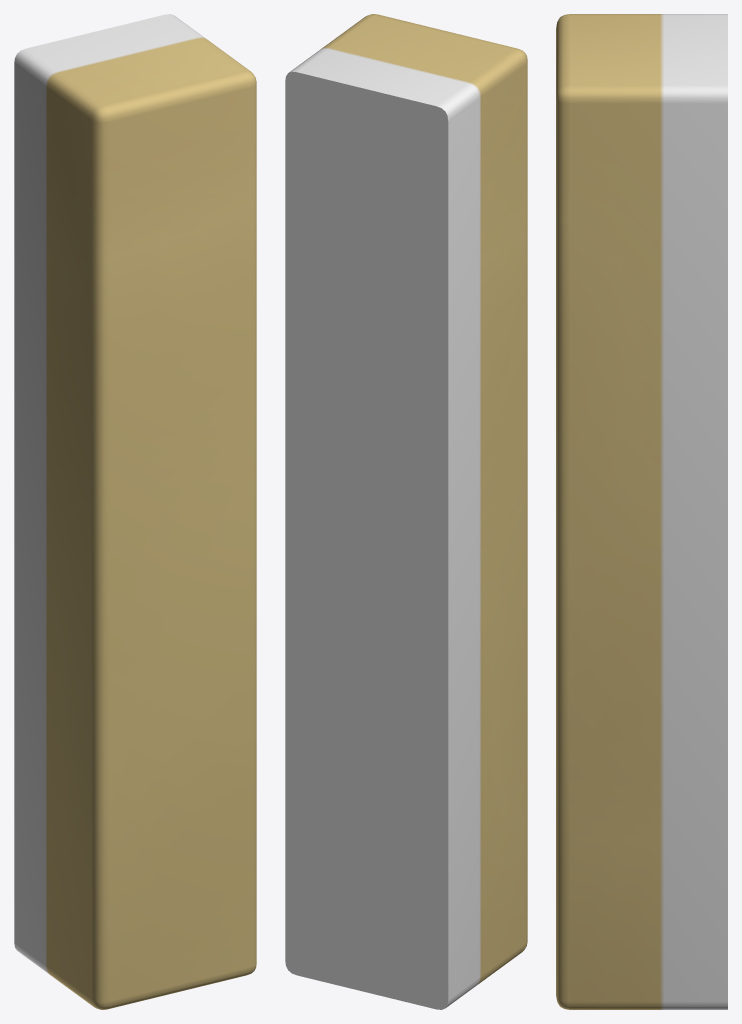
Rendered from LettersLightUp01_I.FBX.
3 renders of one model, left to right at view 1: azimuth 30°, elevation 25°; view 2: azimuth 150°, elevation 25°; view 3: azimuth 270°, elevation 25°, orthographic. The views are drawn at different scales.
Visible parts, largest first — view 1: LettersLightUp01_I; view 2: LettersLightUp01_I; view 3: LettersLightUp01_I.
Boxes of the visible parts, left/top/right/bottom form: LettersLightUp01_I: left=14, top=14, right=256, bottom=1009; LettersLightUp01_I: left=285, top=14, right=527, bottom=1009; LettersLightUp01_I: left=556, top=14, right=727, bottom=1009.
Size of what is drawn, in the model's own units: 0.1133 by 0.6001 by 0.1012.
